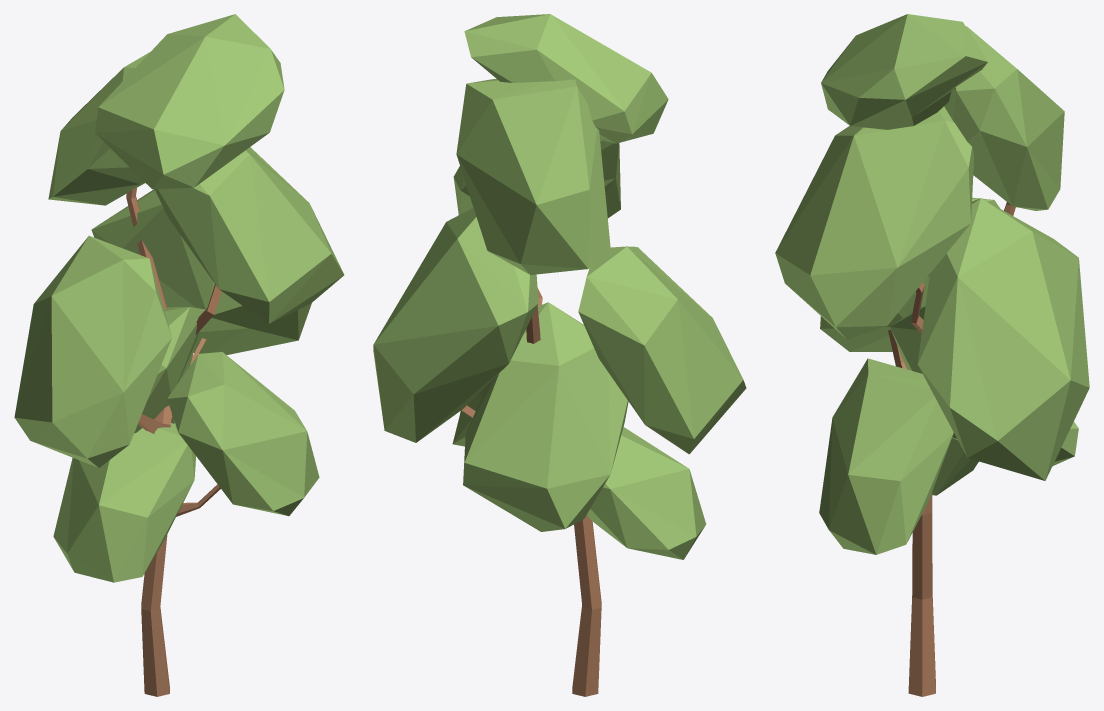
File: tree2.fbx
3 renders of one model, left to right at view 1: azimuth 30°, elevation 25°; view 2: azimuth 150°, elevation 25°; view 3: azimuth 270°, elevation 25°, orthographic. The views are drawn at different scales.
Parts seen in each view (by area): view 1: tree2; view 2: tree2; view 3: tree2.
Part boxes in pixels (x1,y1,x2,y2): tree2: (14, 14, 344, 696); tree2: (373, 14, 746, 696); tree2: (775, 14, 1089, 696).
Size of the model in its own units: 2.08 by 4.26 by 1.74.
